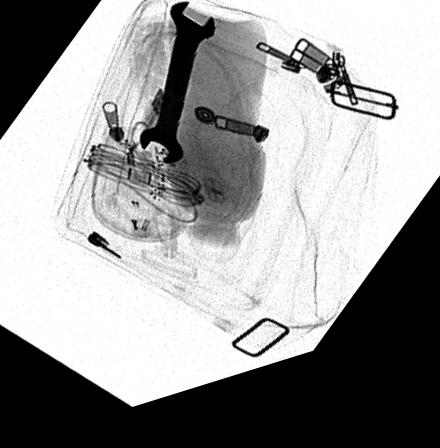Wrench: (137, 10, 217, 174)
